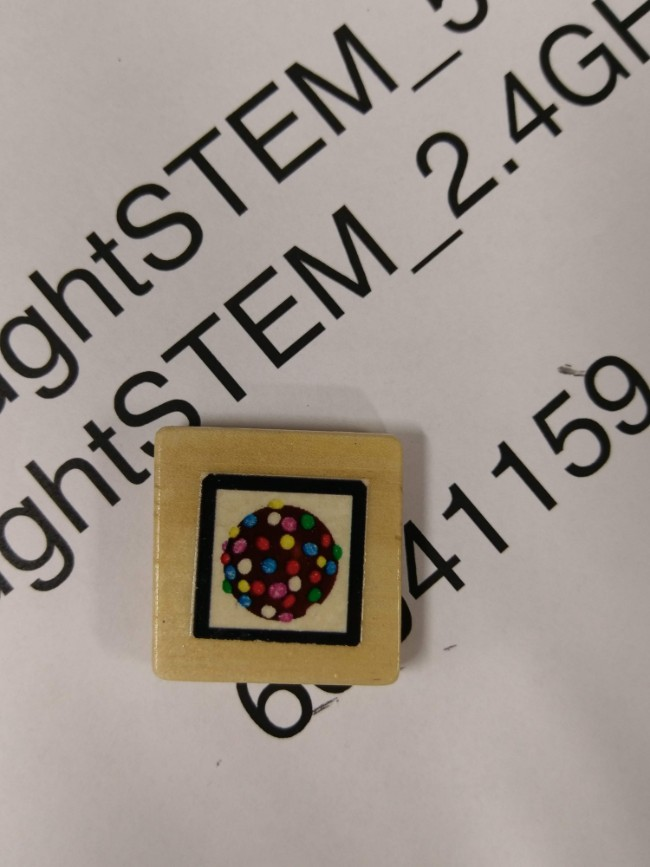cookie: (206, 476, 364, 654)
